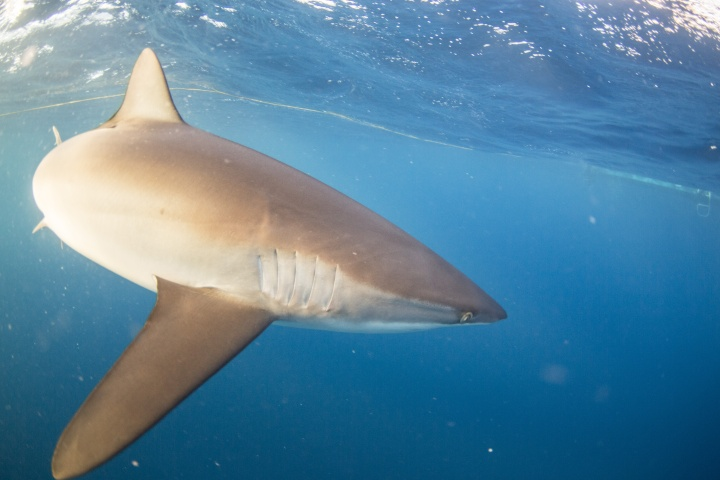Sedoso: (22, 44, 550, 480)
